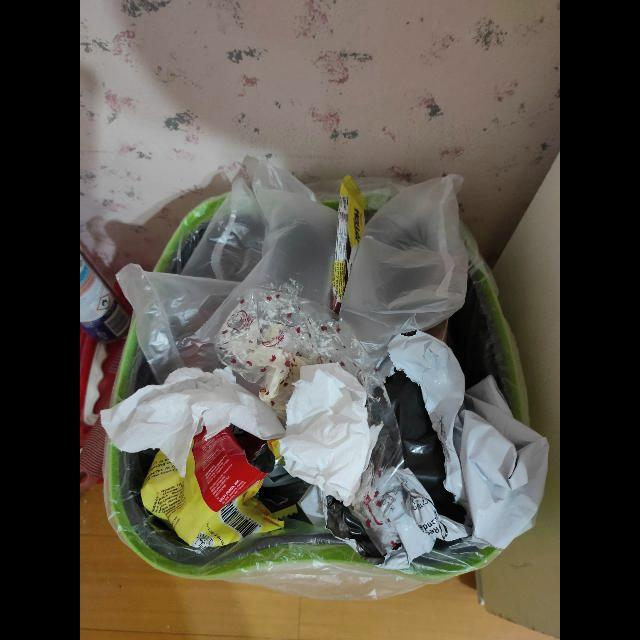food_wrapper: (140, 423, 285, 548), (330, 175, 367, 315)
paper: (101, 366, 286, 478), (279, 362, 384, 507)
plastic_bag: (340, 175, 551, 562), (116, 157, 340, 385)
